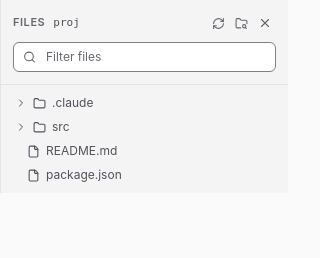
Test: FilesPanel — tree › reloads the root and expanded folders on refresh
This screenshot has width=320, height=258.
Click the button "src": (21, 127) [7, 115, 282, 139]
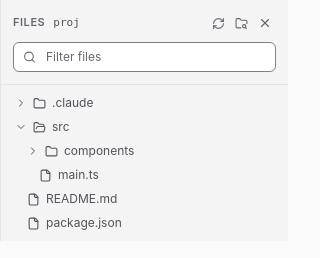
Click the button named "Refresh files": (218, 23) [208, 12, 229, 34]
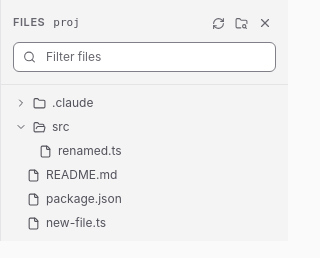
Expected: the list item "new-file.ts" is shown, [7, 211, 282, 235]
Expected: the list item "renamed.ts" is shown, [7, 139, 282, 163]
Expected: the button "main.ts" is gone
